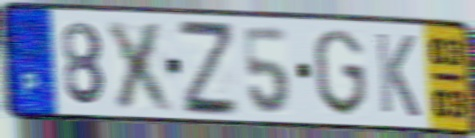5: (240, 23, 293, 118)
8: (60, 20, 107, 108)
G: (310, 27, 371, 120)
K: (373, 29, 423, 121)
X: (103, 18, 180, 115)
Z: (174, 16, 242, 118)
